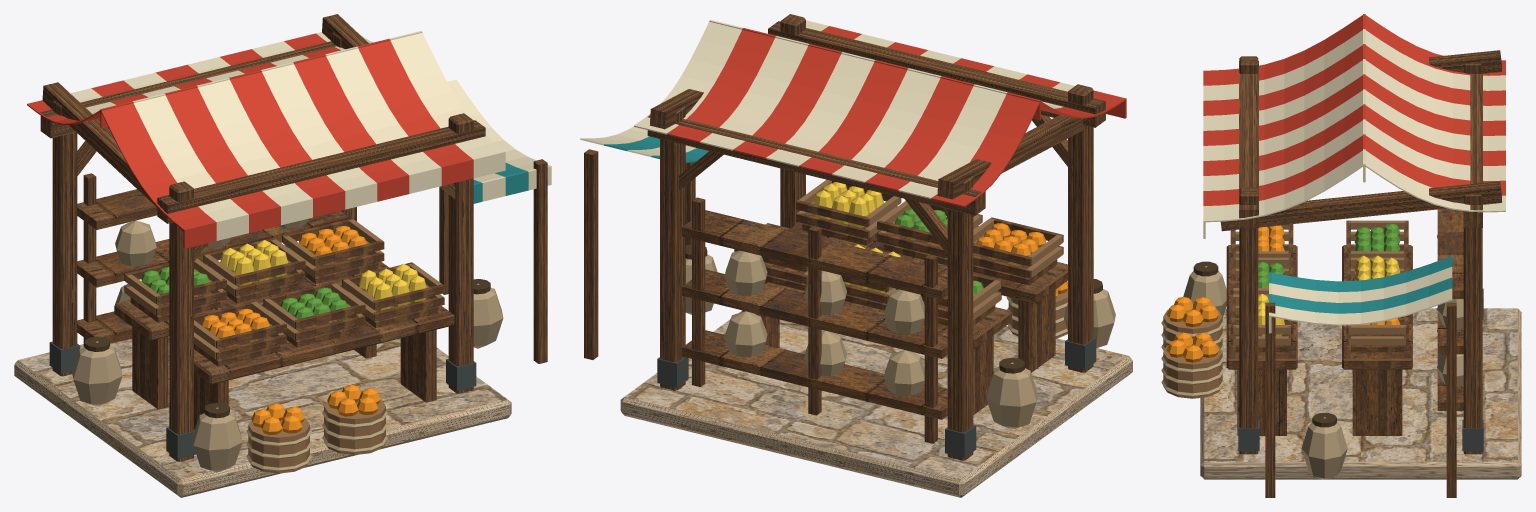
Rendered from market.glb.
3 views of the same model, side by side, from view 1: azimuth 30°, elevation 25°; view 2: azimuth 150°, elevation 25°; view 3: azimuth 270°, elevation 25° (orthographic). The views are drawn at different scales.
Parts seen in each view (by area): view 1: Market • wood, Market • cream, Market • red, Market • stone, Market • sack, Market • edge, Market • orange, Market • corn, Market • iron, Market • green, Market • dark, Market • teal; view 2: Market • wood, Market • stone, Market • red, Market • cream, Market • sack, Market • edge, Market • iron, Market • corn, Market • orange, Market • teal, Market • green, Market • dark; view 3: Market • wood, Market • stone, Market • cream, Market • red, Market • edge, Market • sack, Market • teal, Market • orange, Market • green, Market • corn, Market • iron, Market • dark.
Boxes of the visible parts, box(x1,y1,x2,y2) form: Market • wood: box(40, 14, 547, 461); Market • cream: box(70, 31, 551, 240); Market • red: box(27, 33, 473, 248); Market • stone: box(14, 336, 511, 497); Market • sack: box(72, 219, 503, 472); Market • edge: box(125, 219, 443, 473); Market • orange: box(201, 225, 380, 434); Market • corn: box(220, 240, 426, 311); Market • iron: box(49, 341, 476, 458); Market • green: box(141, 267, 348, 319); Market • dark: box(84, 279, 490, 418); Market • teal: box(473, 163, 528, 203); Market • wood: box(584, 14, 1105, 460); Market • stone: box(620, 311, 1132, 497); Market • red: box(667, 26, 1126, 207); Market • cream: box(580, 20, 1074, 199); Market • sack: box(685, 250, 1115, 428); Market • edge: box(765, 179, 1067, 338); Market • iron: box(657, 337, 1096, 457); Market • corn: box(814, 182, 900, 293); Market • orange: box(976, 223, 1067, 298); Market • teal: box(604, 136, 708, 162); Market • green: box(894, 208, 983, 296); Market • dark: box(685, 244, 1102, 373); Market • wood: box(1220, 50, 1501, 497); Market • stone: box(1200, 308, 1521, 479); Market • cream: box(1203, 29, 1505, 333); Market • red: box(1203, 14, 1505, 205); Market • edge: box(1163, 220, 1406, 398); Market • sack: box(1161, 235, 1463, 479); Market • teal: box(1269, 256, 1452, 313); Market • orange: box(1166, 225, 1400, 362); Market • green: box(1258, 223, 1400, 287); Market • corn: box(1258, 255, 1400, 336); Market • iron: box(1238, 288, 1483, 451); Market • dark: box(1193, 261, 1336, 427).
Bounding box in the file's own units: 2.78 × 2.1 × 2.19.
Materials: 12 (2 with a texture image).
